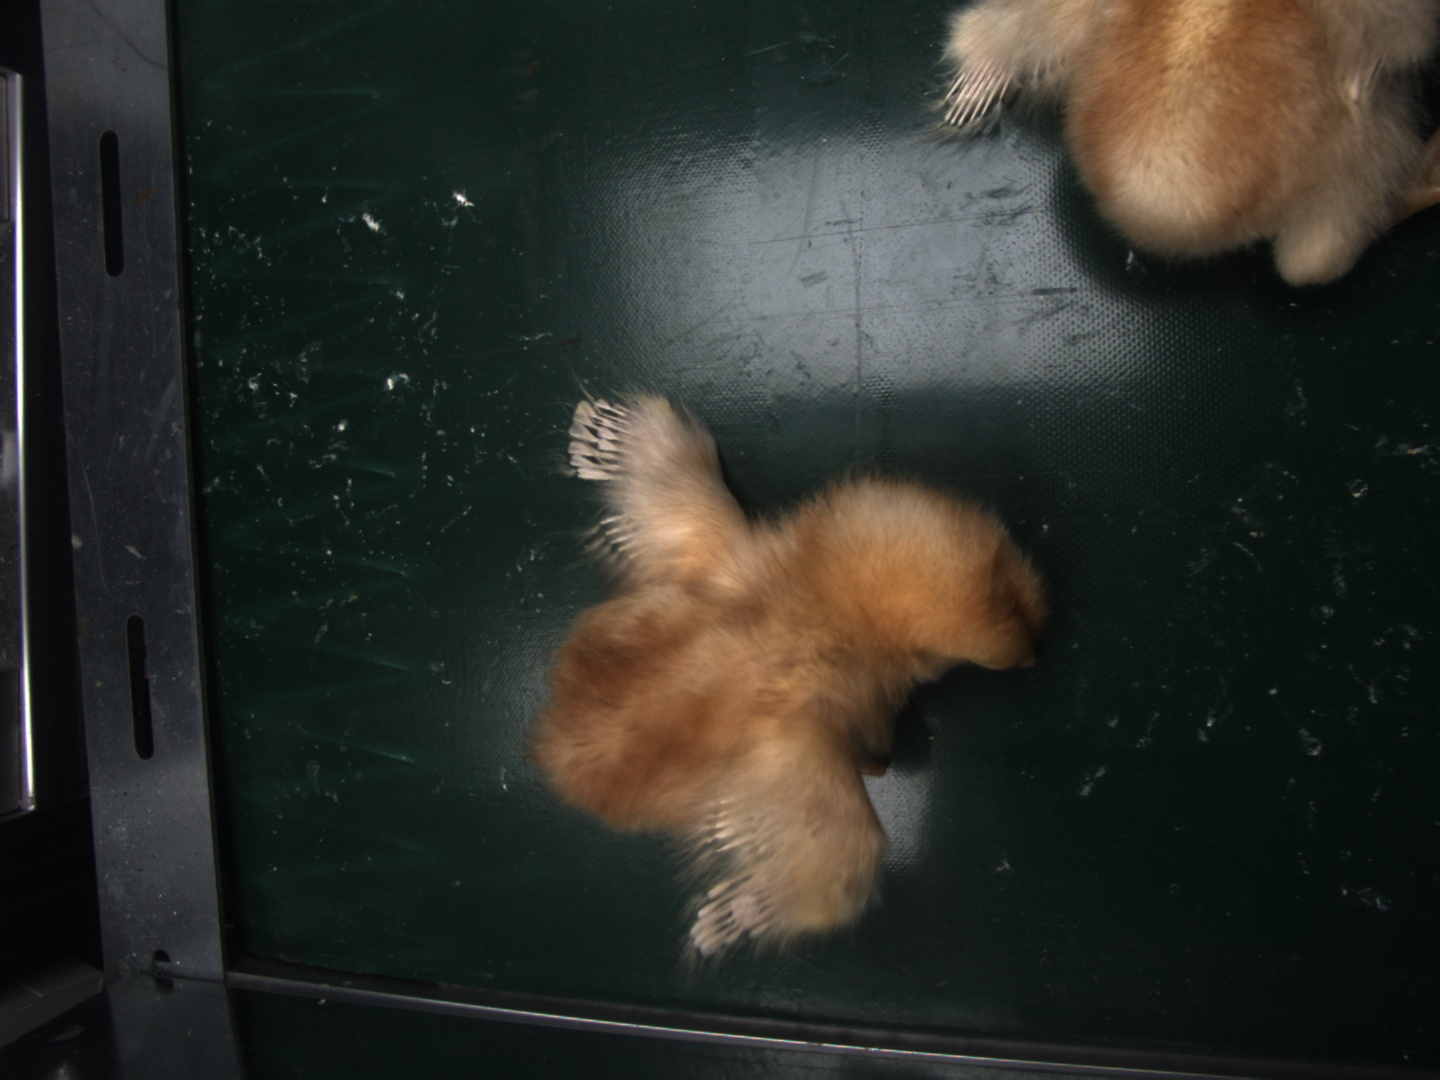female: (561, 393, 637, 480)
